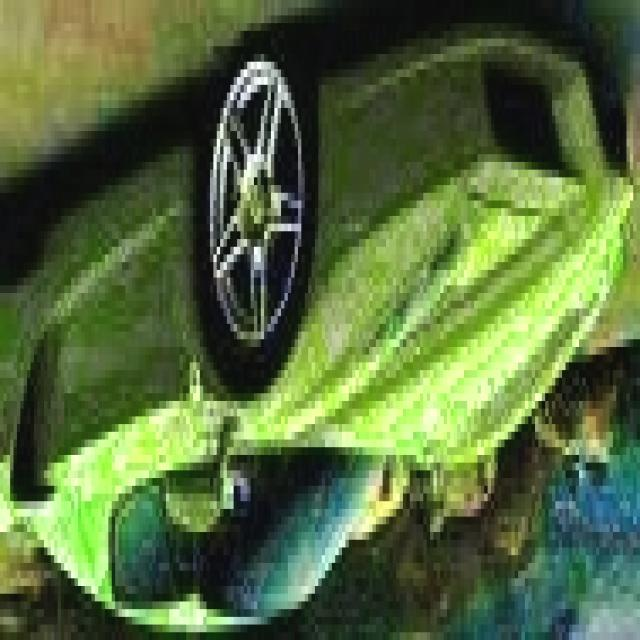green: (0, 0, 627, 633)
